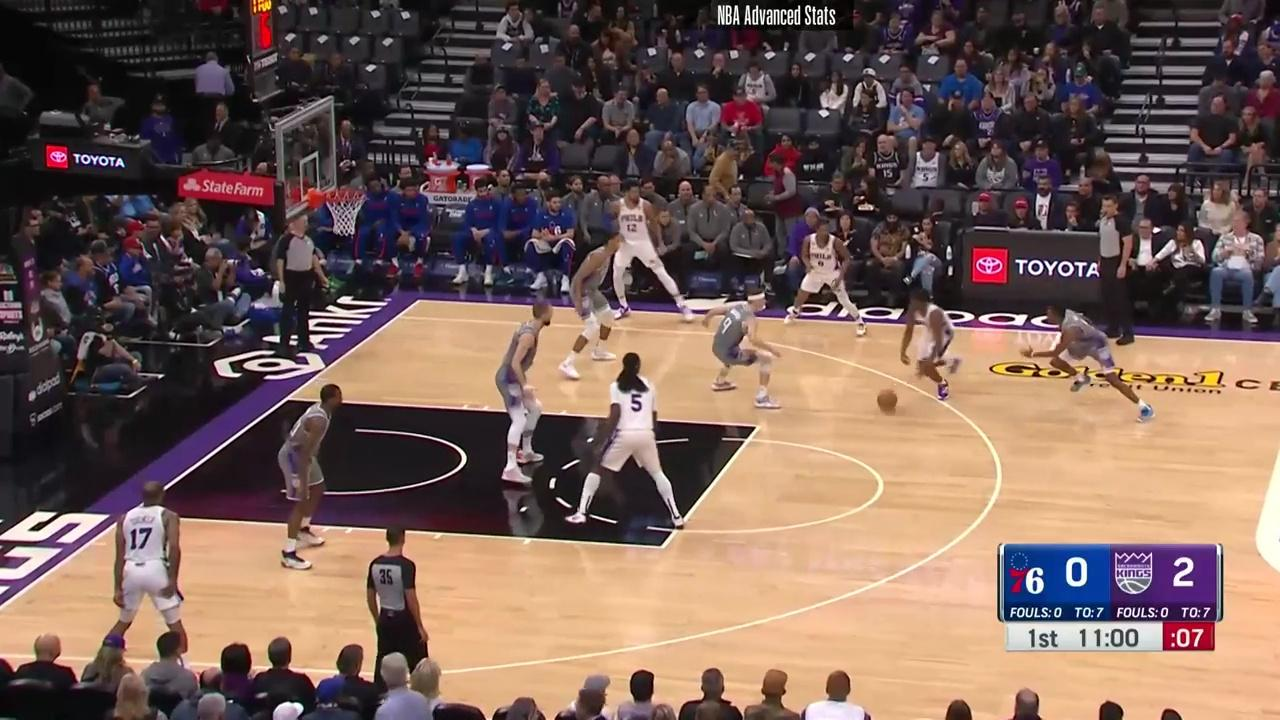Backboard: (276, 95, 338, 230)
Ball: (877, 388, 898, 411)
Basket: (320, 188, 369, 243)
Dribble: (877, 406, 898, 417)
Person: (573, 350, 686, 538), (1034, 298, 1164, 427), (484, 299, 560, 497), (106, 479, 189, 656), (603, 177, 691, 322), (359, 524, 439, 683), (278, 390, 348, 561), (561, 233, 627, 384), (1091, 189, 1151, 354), (793, 217, 872, 338), (705, 289, 773, 410), (899, 289, 964, 408), (269, 212, 329, 340)
Shot Clock: (235, 0, 292, 96)
